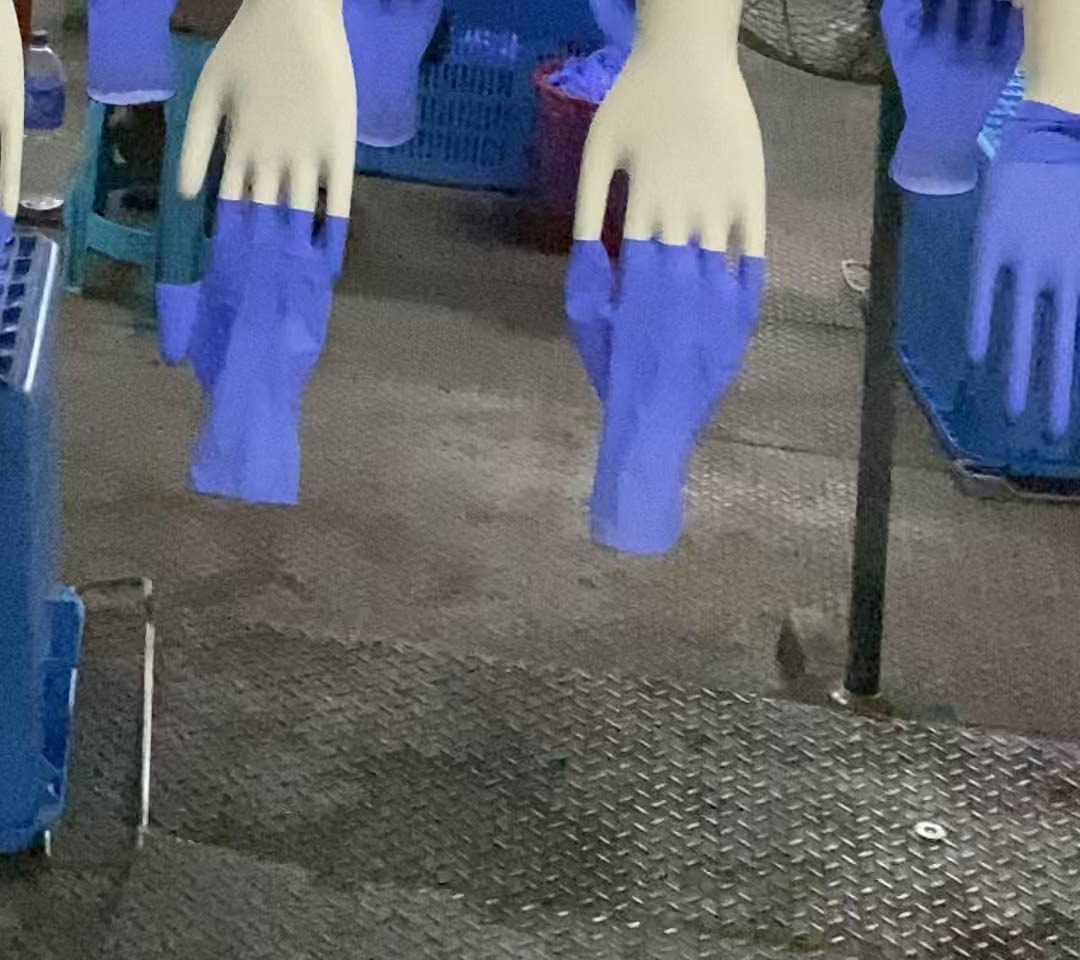glove: (559, 231, 766, 560), (156, 192, 349, 509), (963, 100, 1080, 442), (870, 1, 1024, 192)
